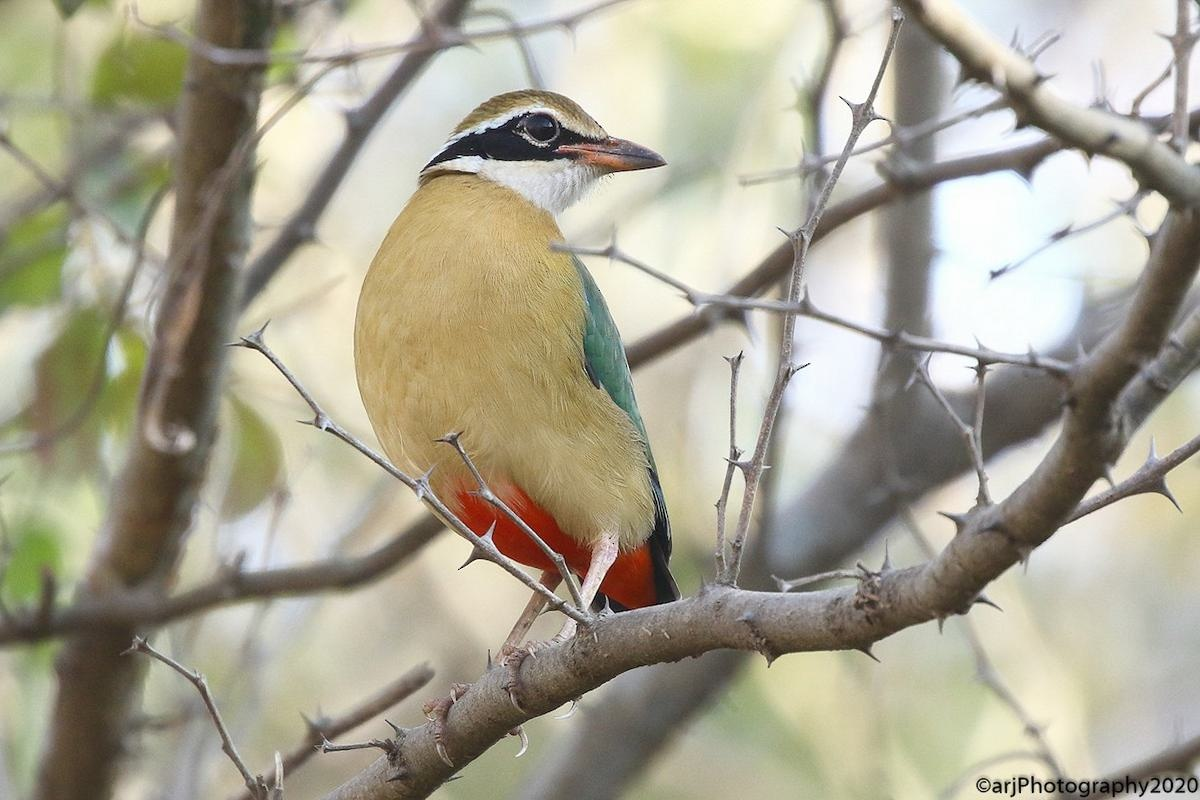pitta: (354, 68, 696, 642)
